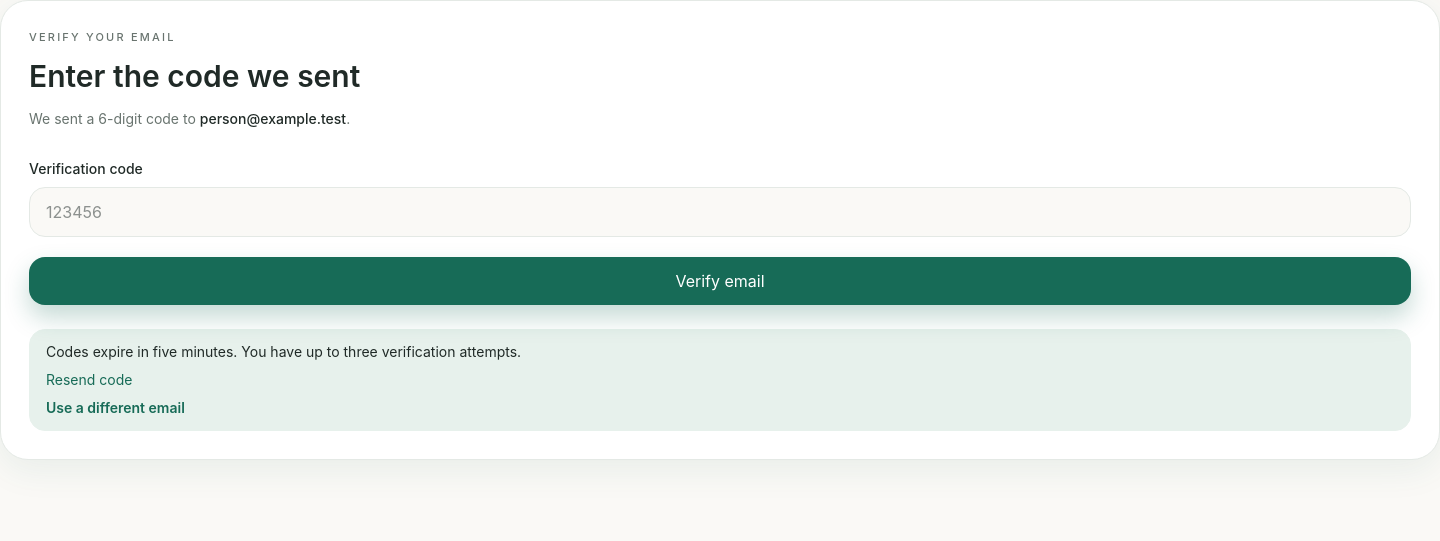
Test case: VerificationForm › rejects malformed codes locally
Type "123" into the field labelled "Verification code" at (720, 212), box [29,187,1411,237]
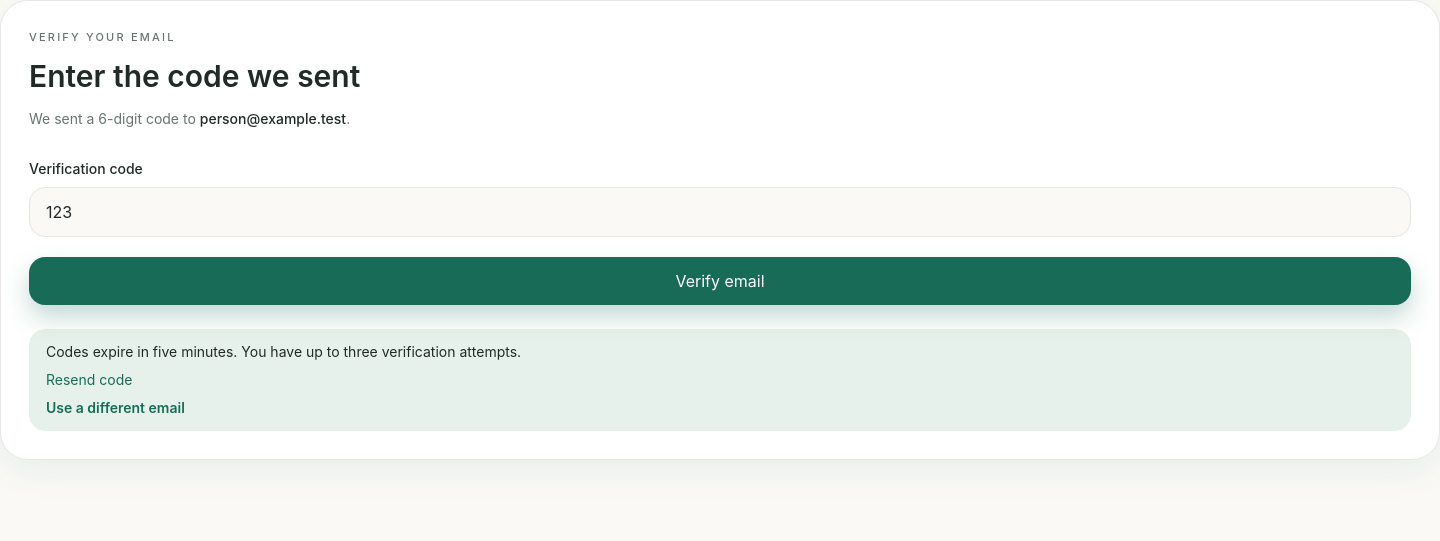
Click the button "Verify email" at (720, 281), box [29,257,1411,305]
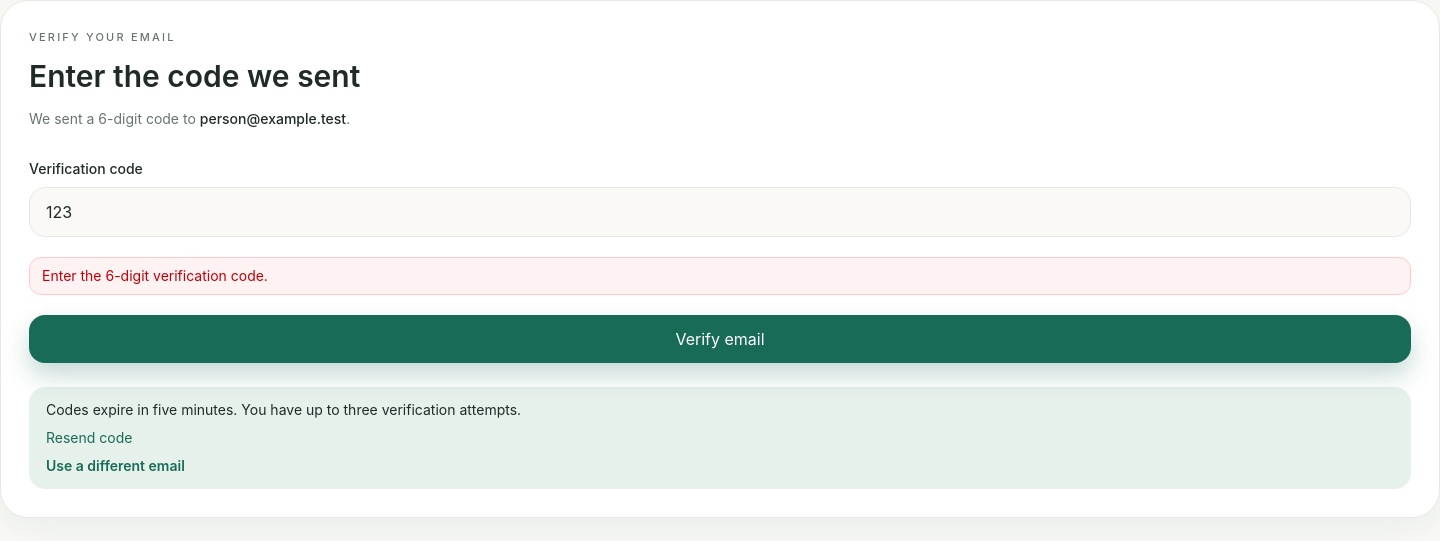
Result: the message shows "Enter the 6-digit" at [42,267,268,284]
